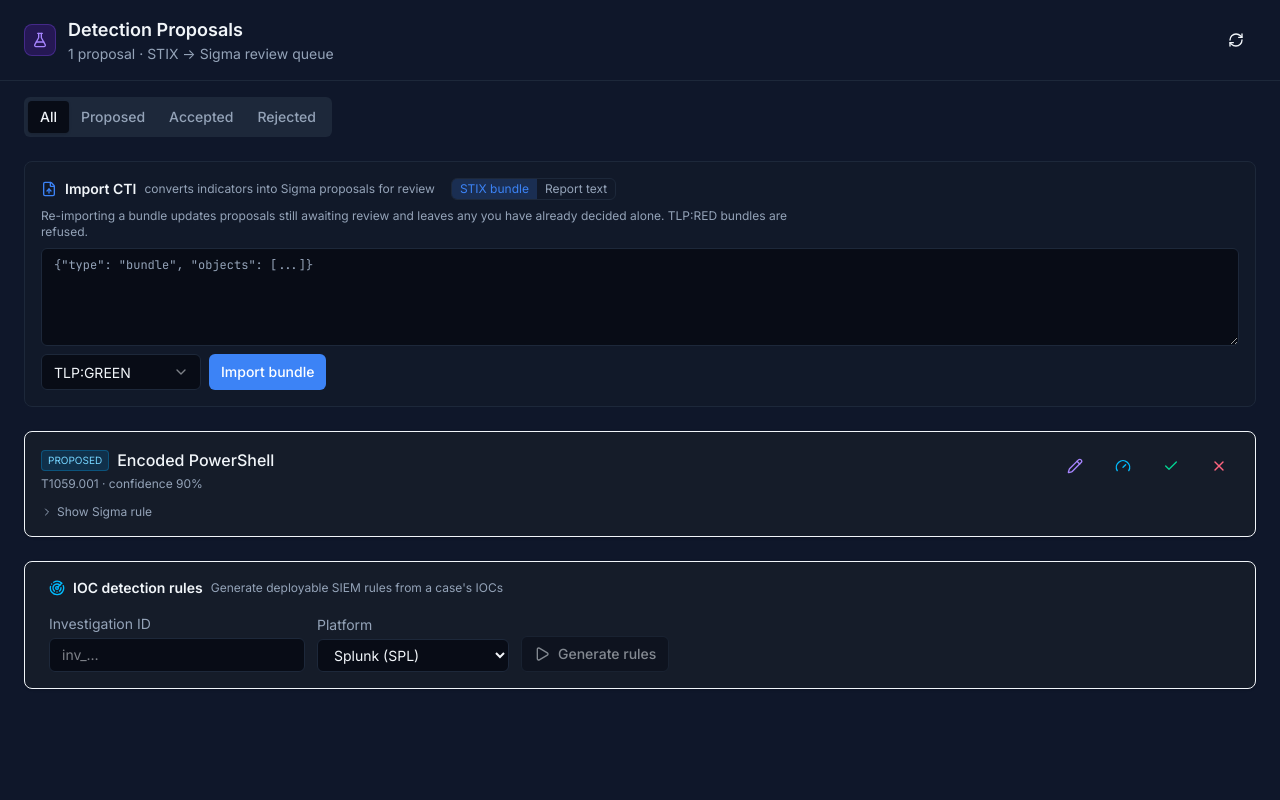
DetectionProposalsPage › validates a proposal and shows the telemetry verdict in place
This screenshot has width=1280, height=800.
Click the button with test id "proposal-validate-prop_ONE" at (1123,466), box [1103,448,1143,484]
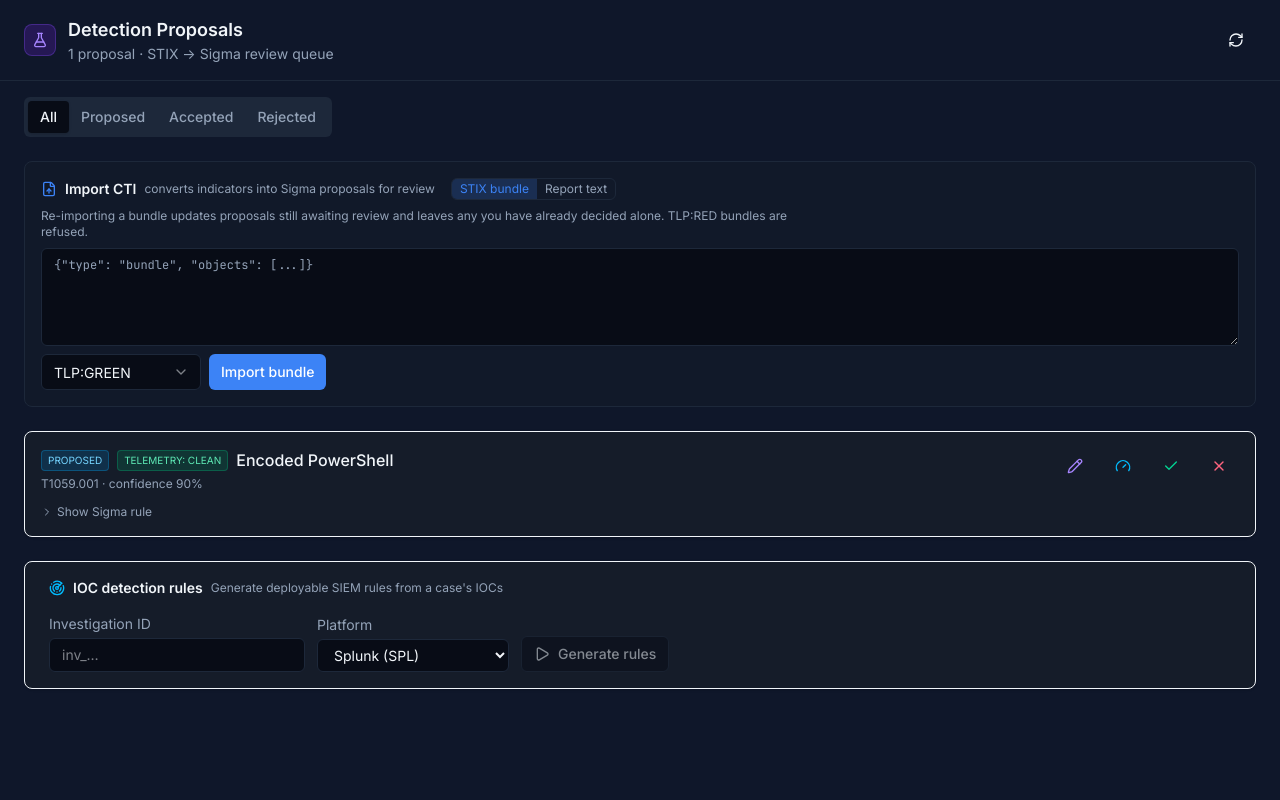
expect the text "telemetry: clean" is shown: met, box [117,450,228,470]
